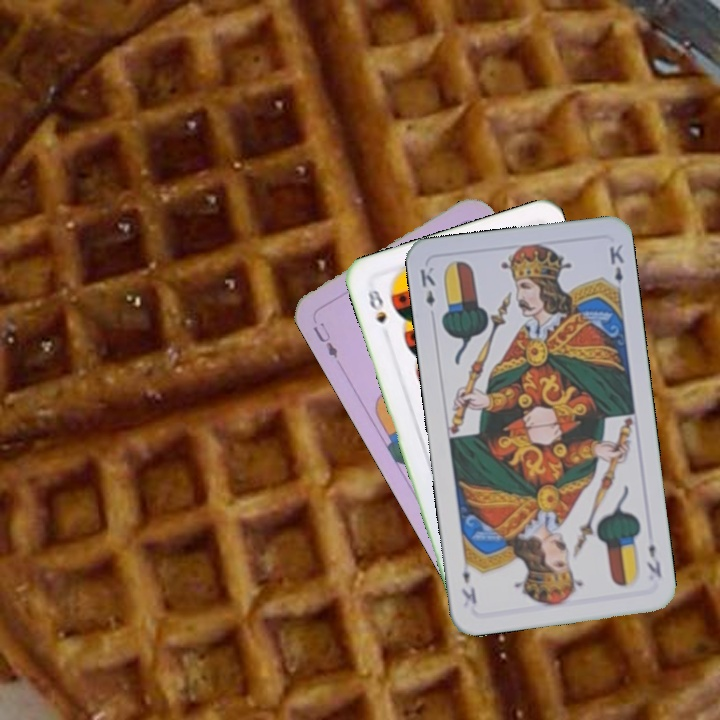EK: (416, 263, 438, 309), (642, 539, 664, 580)
EU: (309, 318, 341, 361)
S8: (364, 286, 389, 327)
